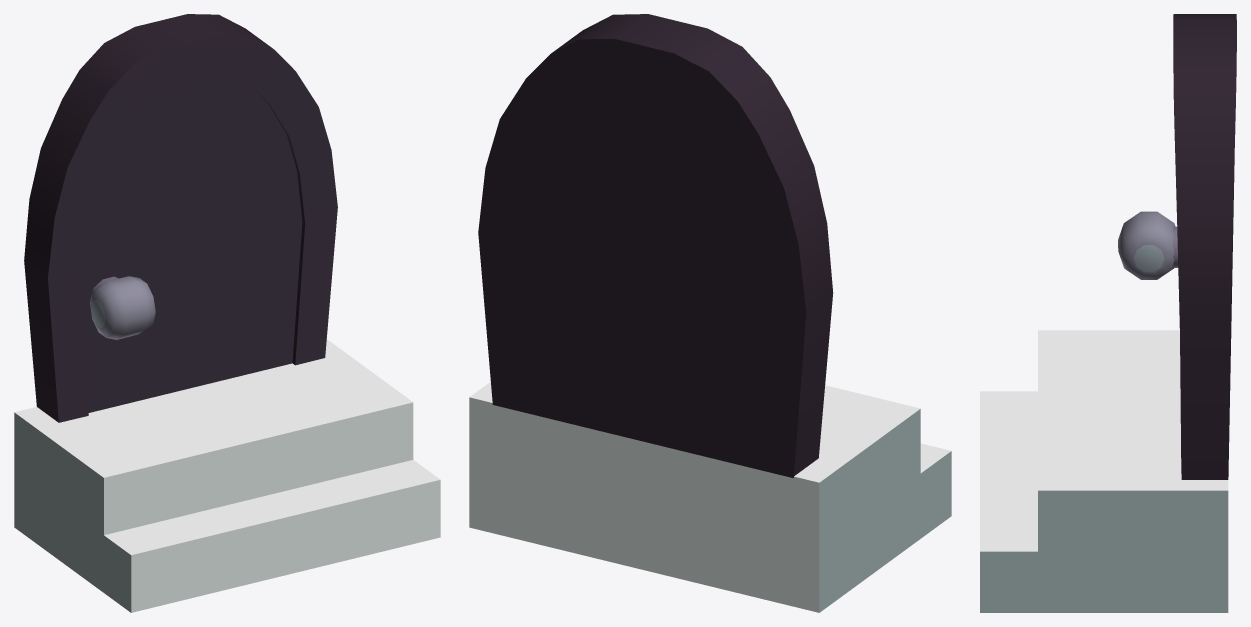
Rendered from Door03_Black_White.glb.
The picture shows the model from 3 angles, left to right: view 1: azimuth 30°, elevation 25°; view 2: azimuth 150°, elevation 25°; view 3: azimuth 270°, elevation 25°; orthographic projection. The views are drawn at different scales.
Visible parts, largest first — view 1: Door03_Black_White; view 2: Door03_Black_White; view 3: Door03_Black_White.
Boxes of the visible parts, <box> form: Door03_Black_White: <box>14,14,440,612</box>; Door03_Black_White: <box>469,14,951,612</box>; Door03_Black_White: <box>980,14,1236,612</box>.
Size of the model in its own units: 0.9795 by 1.41 by 0.6625.
Materials: 1 (1 with a texture image).
